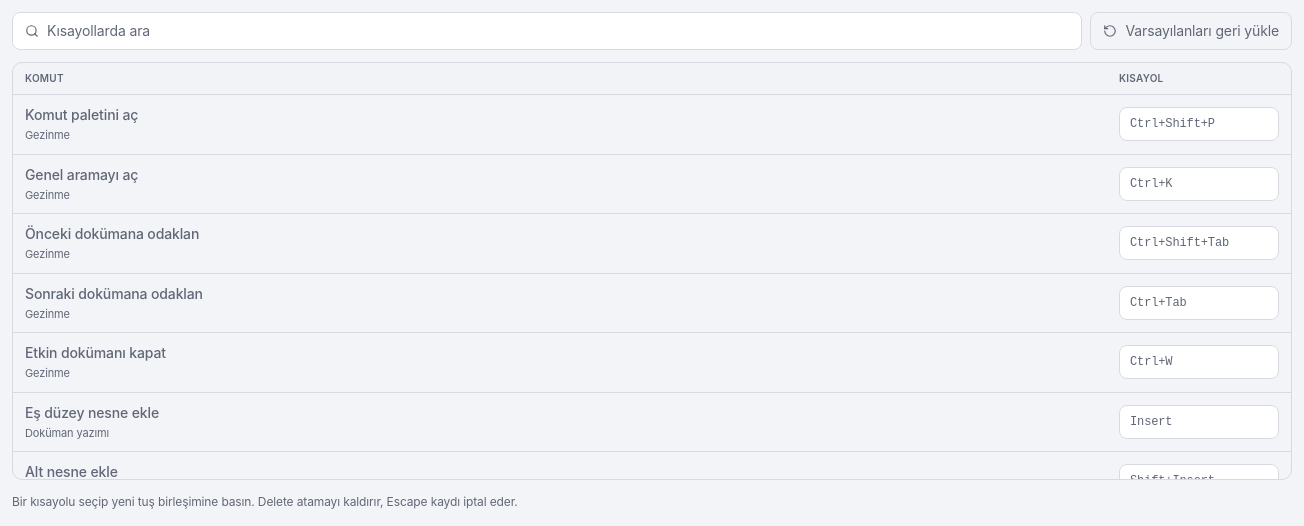
Scenario: KeyboardShortcutsSettings › filters the visible command list
Step 1. Type "arama" into the field with test id "shortcut-search" → (558, 31), box [47,21,1069,41]
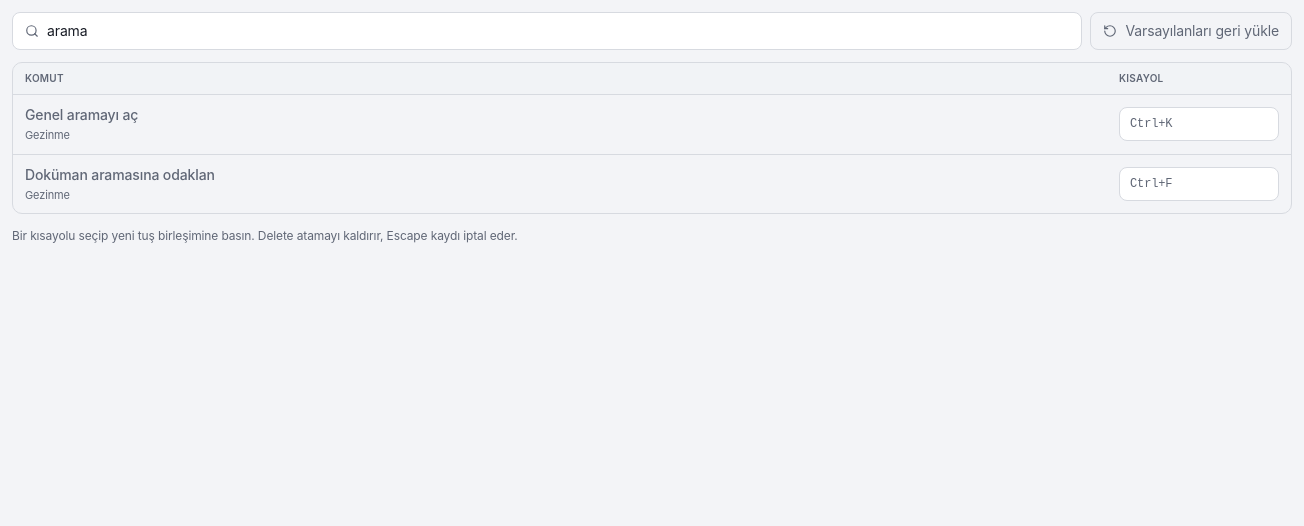
Expected: the button with test id "shortcut-globalSearch" is shown, [1119,107,1279,141]
Result: the button with test id "shortcut-addObject" is gone
